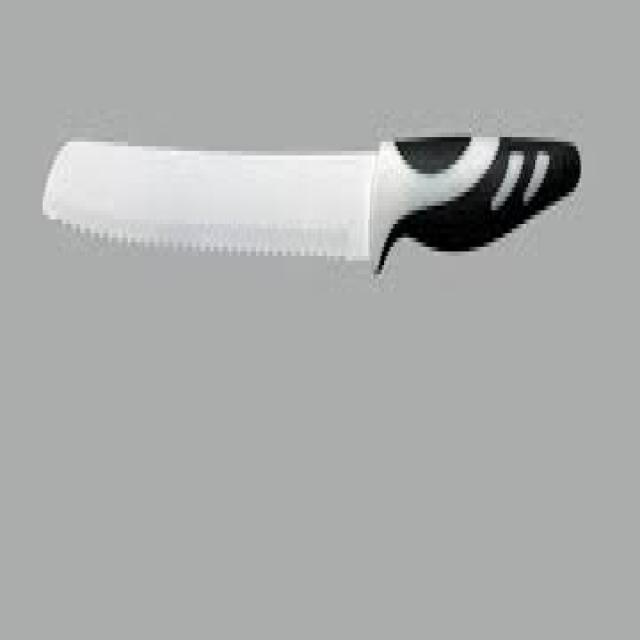Knife: (41, 128, 581, 274)
